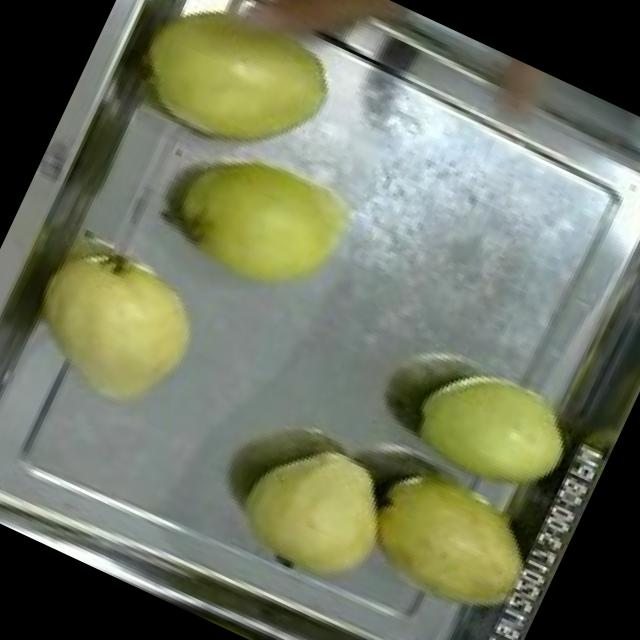Fruit: (0, 214, 232, 437), (109, 0, 377, 192), (151, 110, 382, 328), (335, 434, 574, 640), (214, 408, 423, 608), (386, 331, 598, 526)
